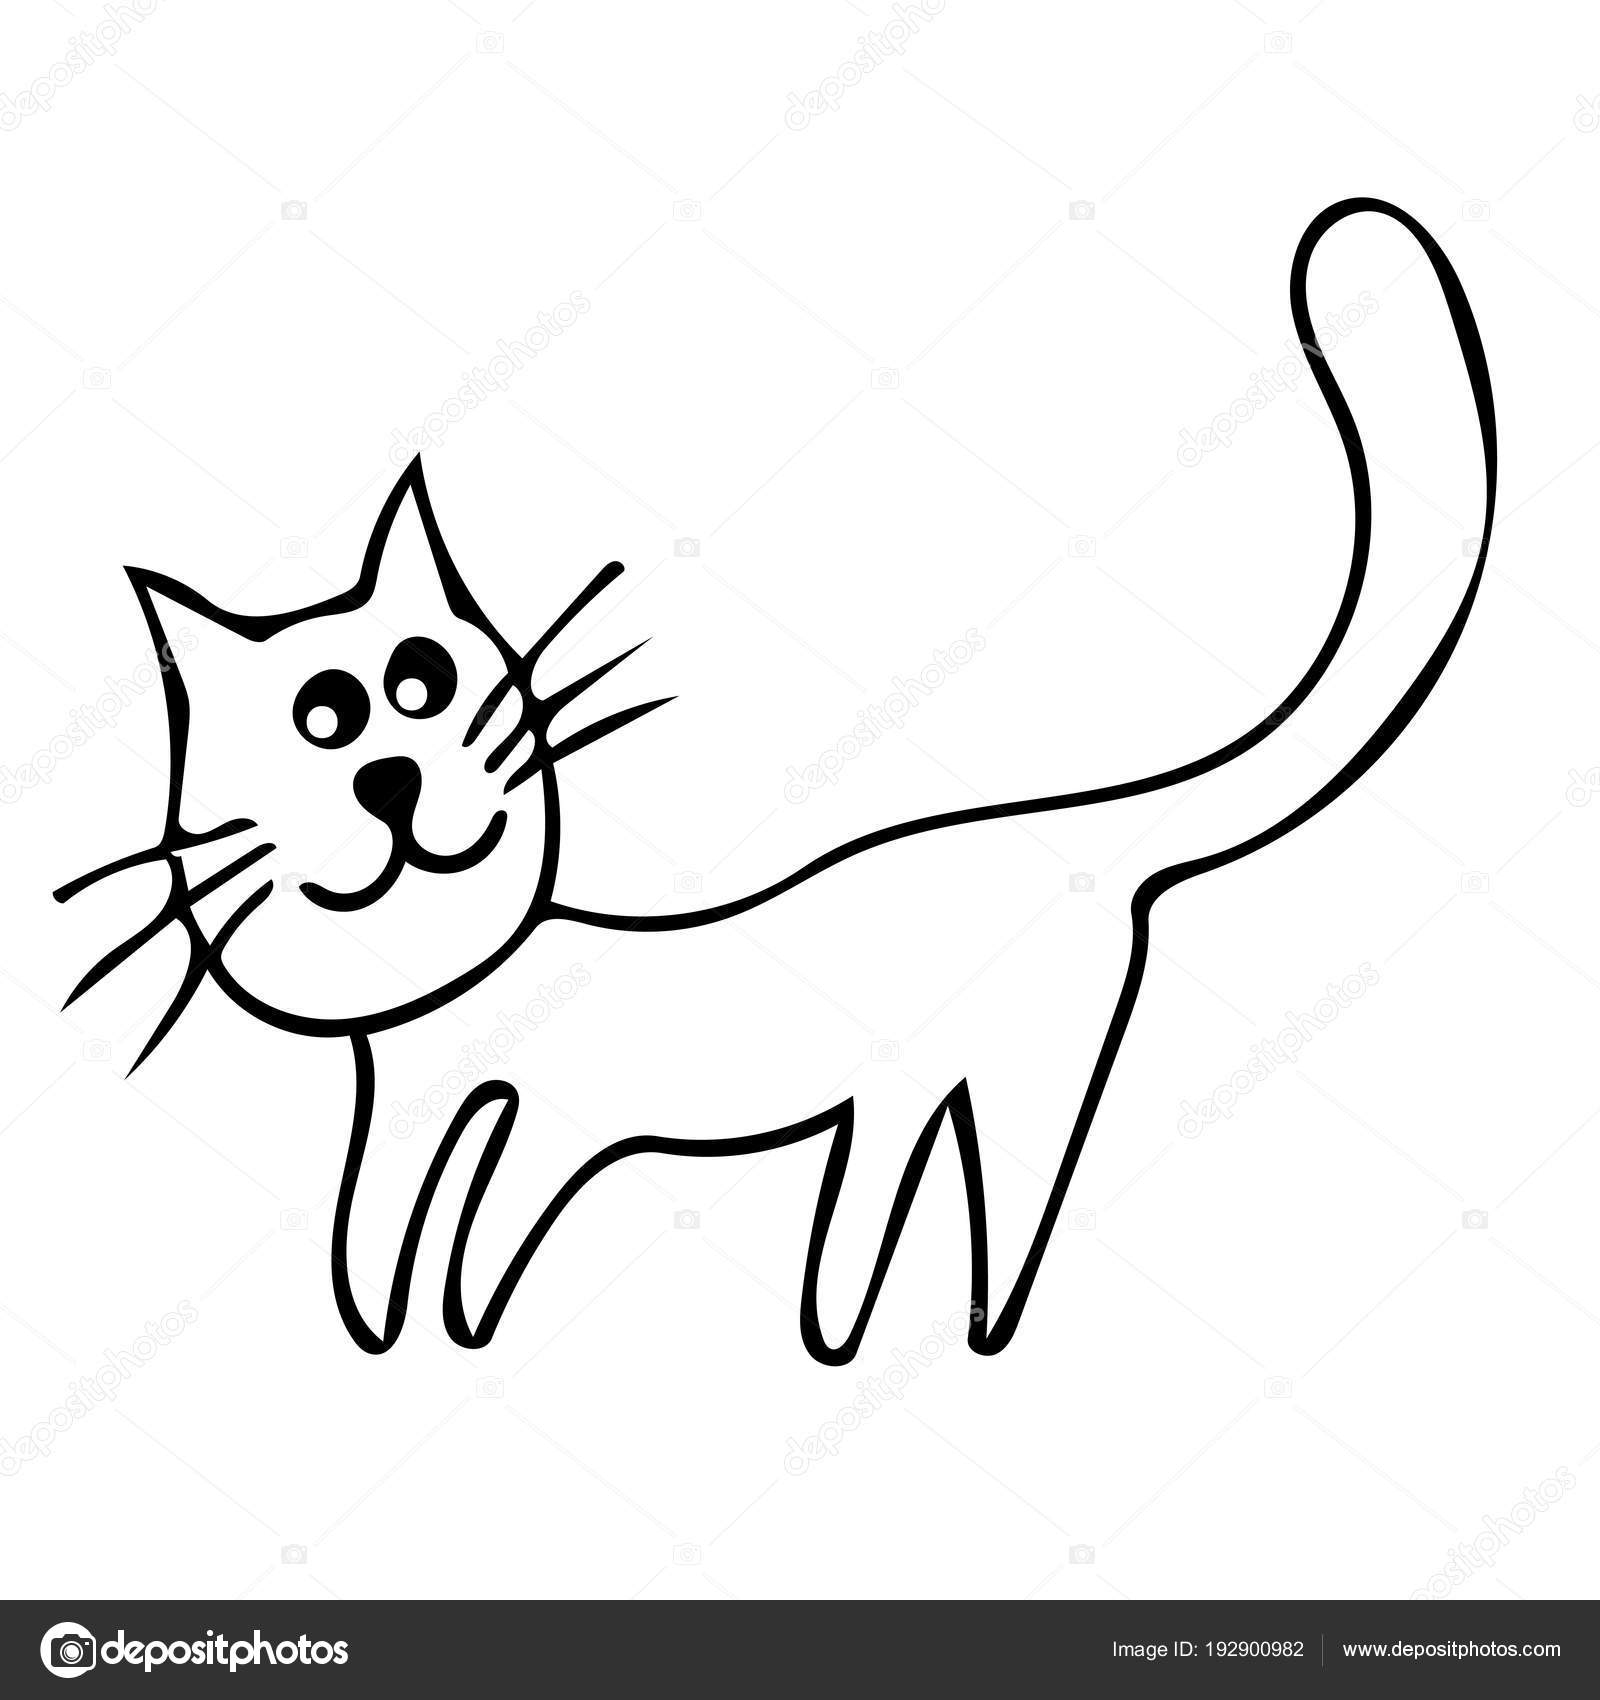cat: (38, 170, 1514, 1469)
